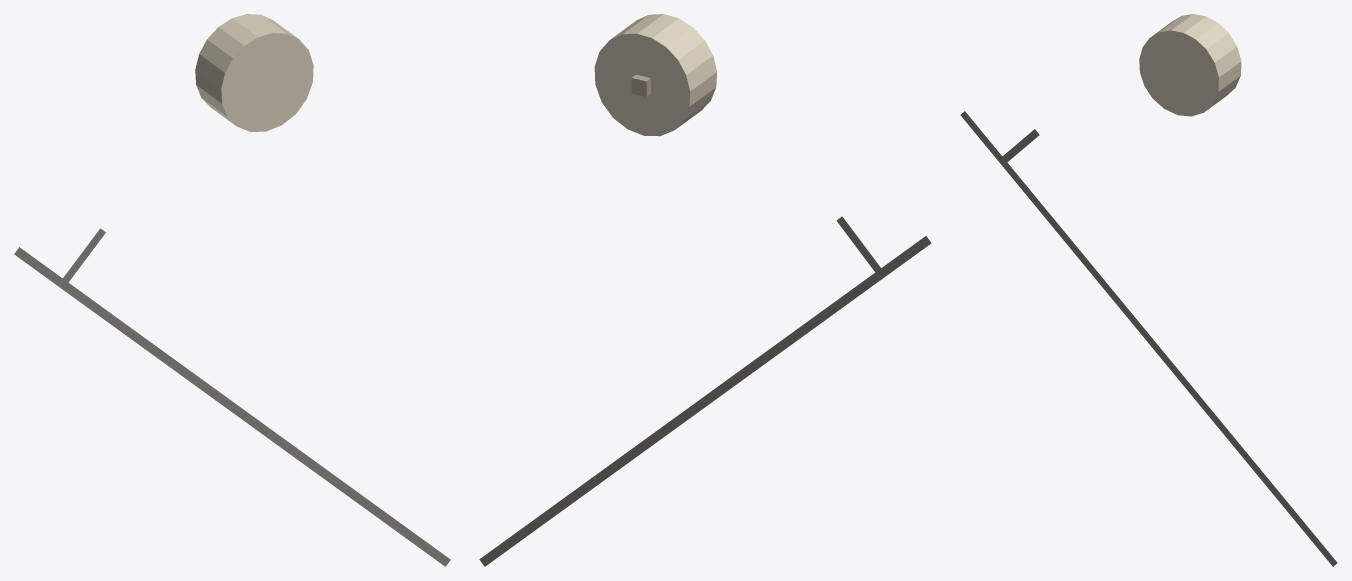
Rendered from historic-palestine-08_19_3502_3139.glb.
3 renders of one model, left to right at view 1: azimuth 30°, elevation 25°; view 2: azimuth 150°, elevation 25°; view 3: azimuth 330°, elevation 25°, orthographic. The views are drawn at different scales.
Visible parts, largest first — view 1: Building_, Road; view 2: Building_, Road; view 3: Building_, Road.
Boxes of the visible parts, x1,y1,x2,y2 form: Building_: [195, 14, 313, 131]; Road: [14, 247, 450, 566]; Building_: [594, 14, 716, 136]; Road: [479, 236, 931, 566]; Building_: [1139, 14, 1241, 116]; Road: [960, 111, 1337, 566].
Bounding box in the file's own units: 72.65 × 91.56 × 8.7.
